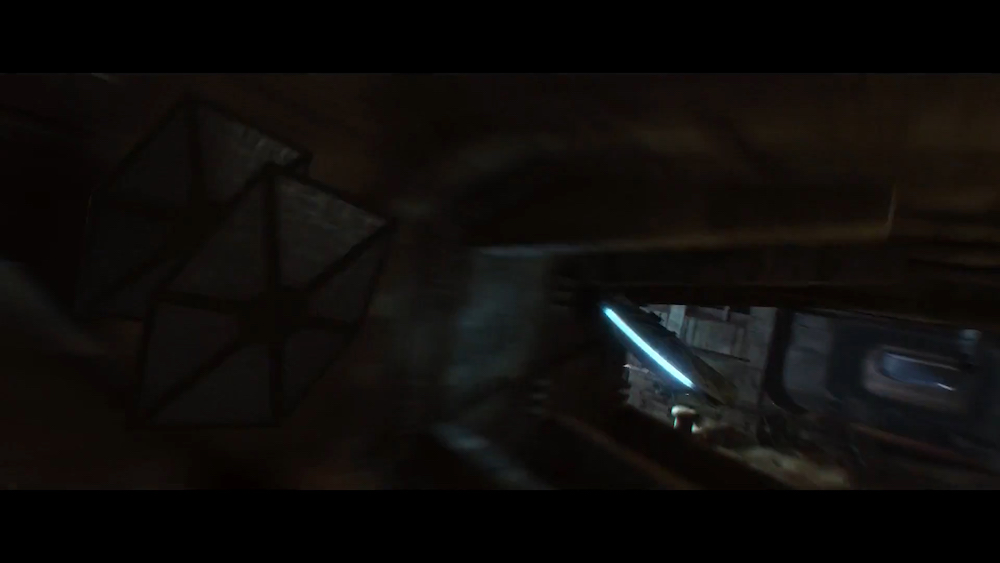Millennium Falcon: (596, 292, 744, 414)
Tie Fighter: (55, 89, 396, 438)
